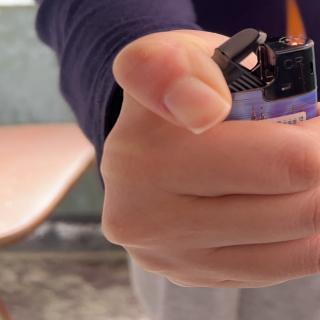fire: (283, 0, 308, 45)
